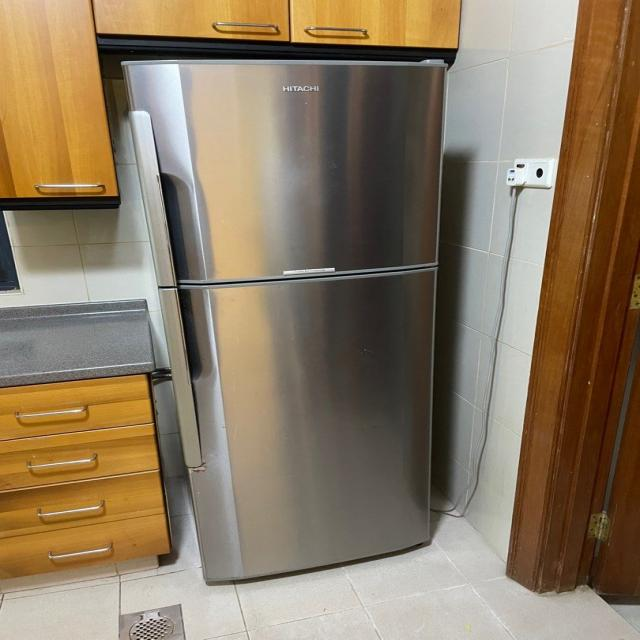refrigerator: (122, 56, 450, 585)
